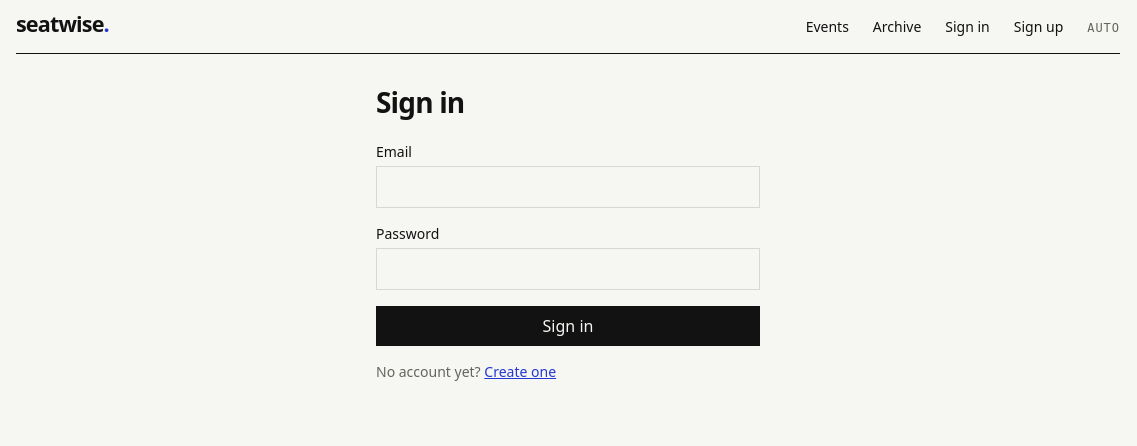
Test: login page › validates before sending anything
The width and height of the screenshot is (1137, 446).
Click the button "Sign in": [568, 326] box [376,306,760,346]
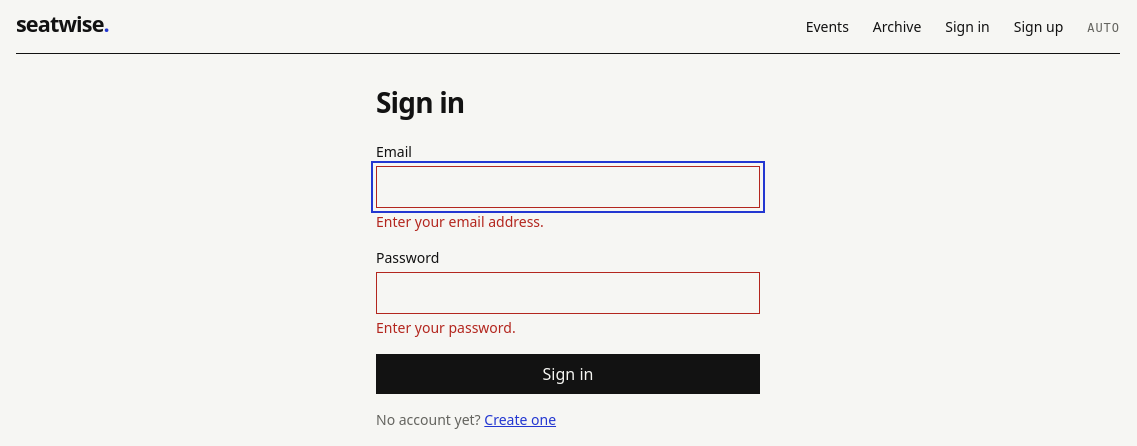
Result: the text "Enter your email address." is shown at [376,212,544,232]
Result: the text "Enter your password." is shown at [376,318,516,338]
